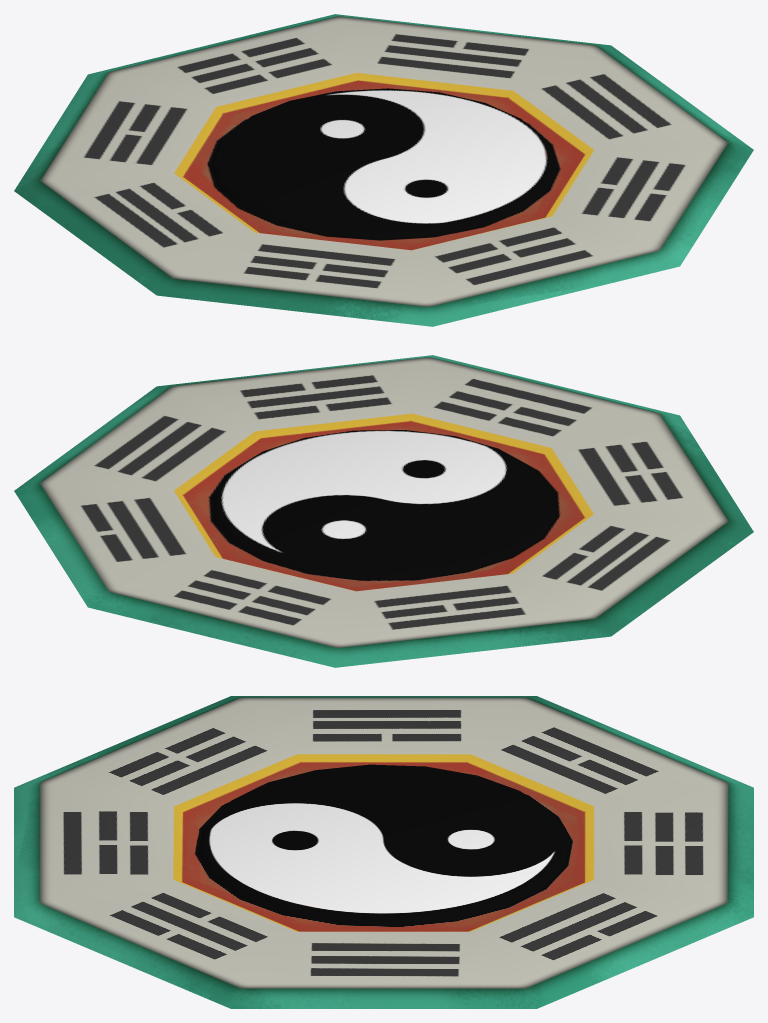
Rendered from teleporter_koto.fbx.
The picture shows the model from 3 angles, top to bottom: view 1: azimuth 30°, elevation 25°; view 2: azimuth 150°, elevation 25°; view 3: azimuth 270°, elevation 25°; orthographic projection. The views are drawn at different scales.
Visible parts, largest first — view 1: koto_teleporter; view 2: koto_teleporter; view 3: koto_teleporter.
Part boxes in pixels (left/top/right/bottom): koto_teleporter: left=14, top=14, right=753, bottom=326; koto_teleporter: left=14, top=355, right=753, bottom=667; koto_teleporter: left=14, top=696, right=753, bottom=1008.
Size of the model in its own units: 11.73 by 0.2198 by 11.73.
